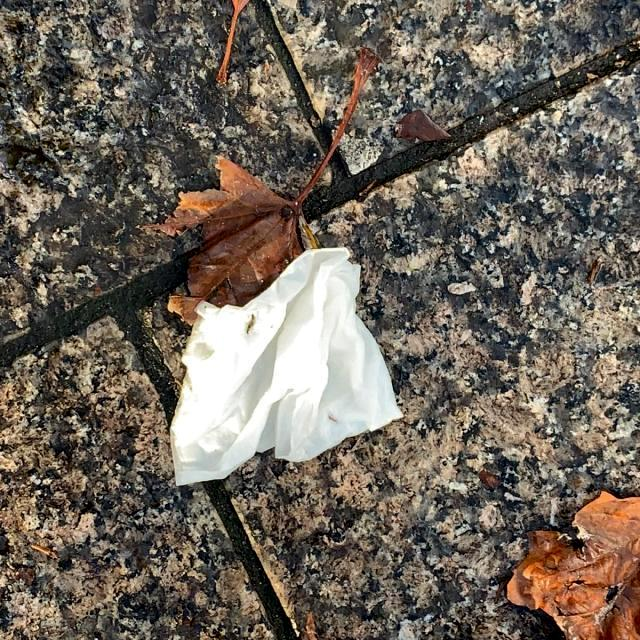Paper: (171, 245, 403, 491)
